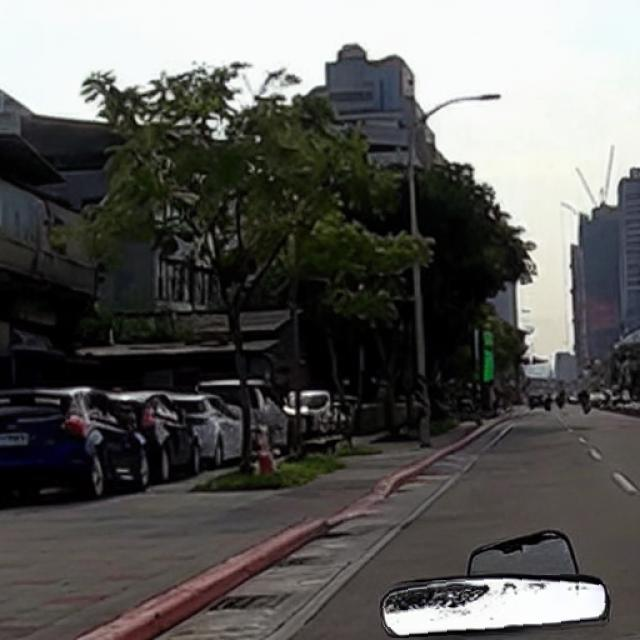puddle: (382, 576, 610, 637)
